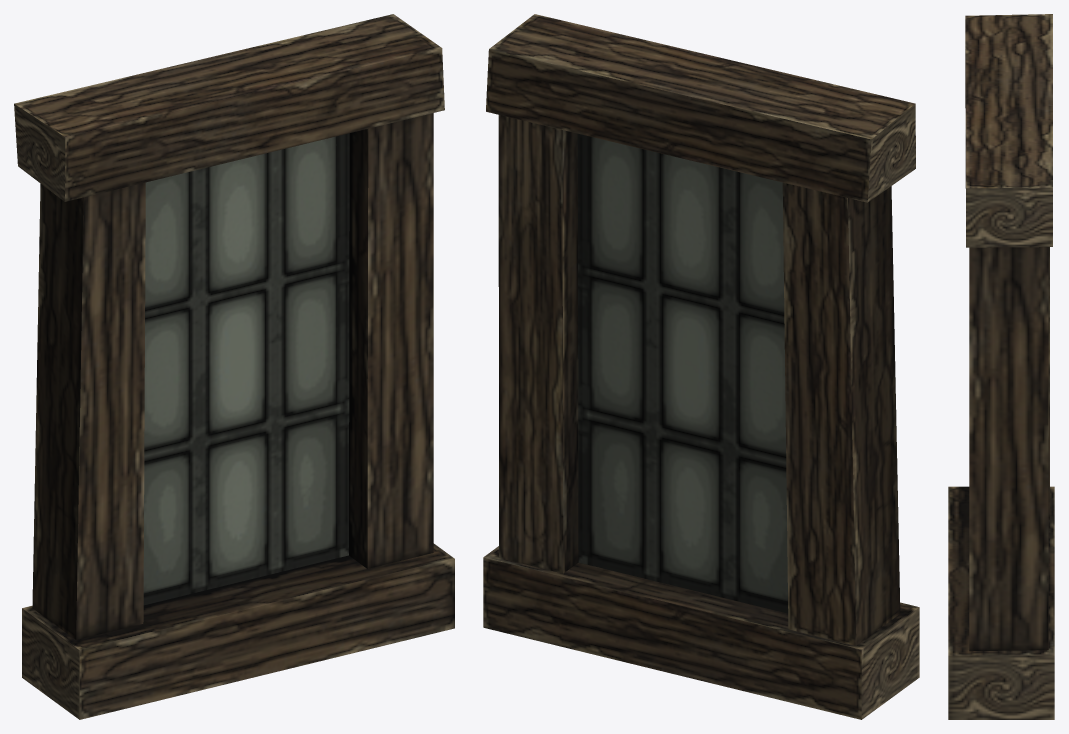
Rendered from Window_01.fbx.
3 renders of one model, left to right at view 1: azimuth 30°, elevation 25°; view 2: azimuth 150°, elevation 25°; view 3: azimuth 270°, elevation 25°, orthographic. The views are drawn at different scales.
Visible parts, largest first — view 1: Window_01; view 2: Window_01; view 3: Window_01.
Part boxes in pixels (x1,y1,x2,y2): Window_01: (14,14,454,719); Window_01: (483,14,919,719); Window_01: (948,14,1054,719).
Bounding box in the file's own units: 1.43 × 2.06 × 0.3723.
